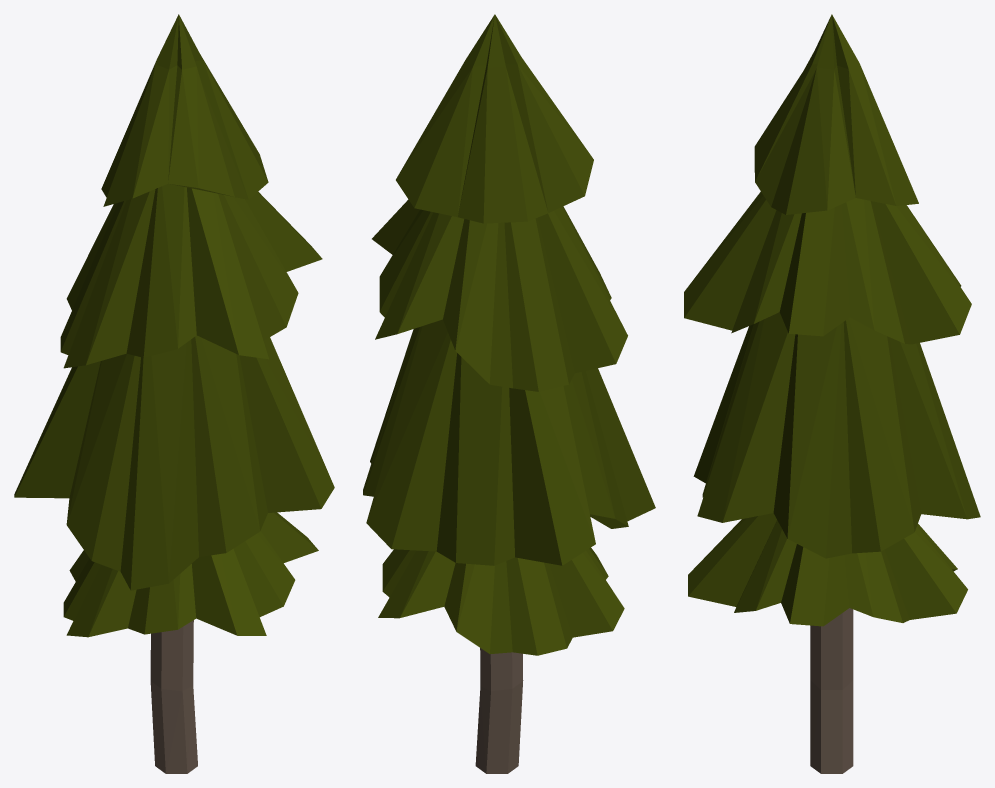
Rendered from tree_0204.dae.
The picture shows the model from 3 angles, left to right: view 1: azimuth 30°, elevation 25°; view 2: azimuth 150°, elevation 25°; view 3: azimuth 270°, elevation 25°; orthographic projection.
Visible parts, largest first — view 1: tree_0204; view 2: tree_0204; view 3: tree_0204.
Part boxes in pixels (box(x1,y1,x2,y2)): tree_0204: box(14, 14, 334, 773); tree_0204: box(363, 14, 655, 773); tree_0204: box(684, 14, 980, 773).
Bounding box in the file's own units: 1.89 × 1.86 × 5.21.
